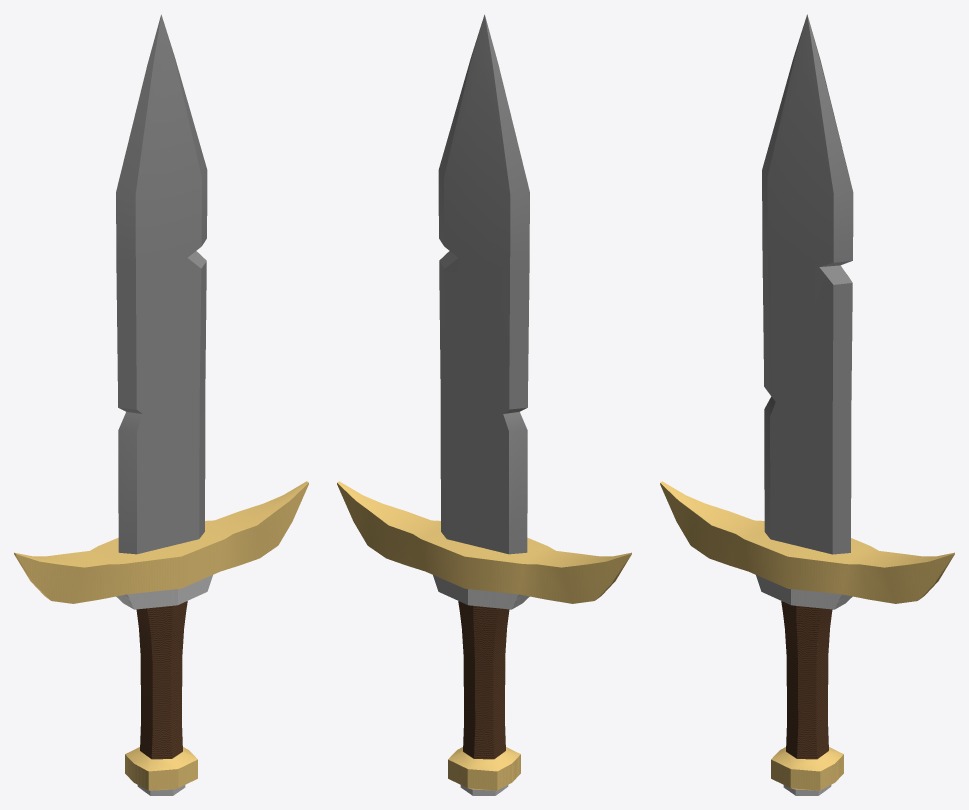
File: Sword.fbx
The picture shows the model from 3 angles, left to right: view 1: azimuth 30°, elevation 25°; view 2: azimuth 150°, elevation 25°; view 3: azimuth 330°, elevation 25°; orthographic projection.
Visible parts, largest first — view 1: sword3; view 2: sword3; view 3: sword3.
Part boxes in pixels (<box>): sword3: <box>14,14,308,795</box>; sword3: <box>337,14,631,795</box>; sword3: <box>660,14,954,795</box>.
Size of the model in its own units: 49.37 by 126 by 11.48.
Materials: 1 (1 with a texture image).
